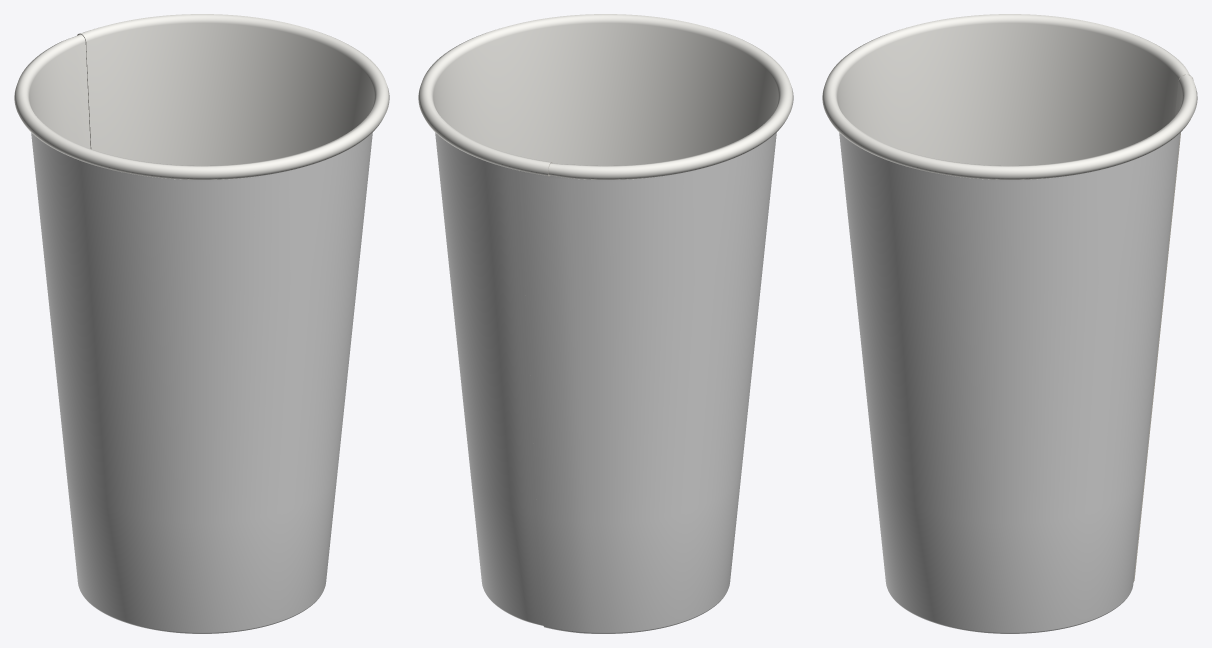
3 renders of one model, left to right at view 1: azimuth 30°, elevation 25°; view 2: azimuth 150°, elevation 25°; view 3: azimuth 270°, elevation 25°, orthographic.
Parts seen in each view (by area): view 1: Cup_Wall; view 2: Cup_Wall; view 3: Cup_Wall.
Part boxes in pixels (box(x1,y1,x2,y2)): Cup_Wall: box(14, 14, 389, 633); Cup_Wall: box(418, 14, 793, 633); Cup_Wall: box(822, 14, 1197, 633).
Bounding box in the file's own units: 0.0808 × 0.117 × 0.0808.
3 materials, 1 textured.
